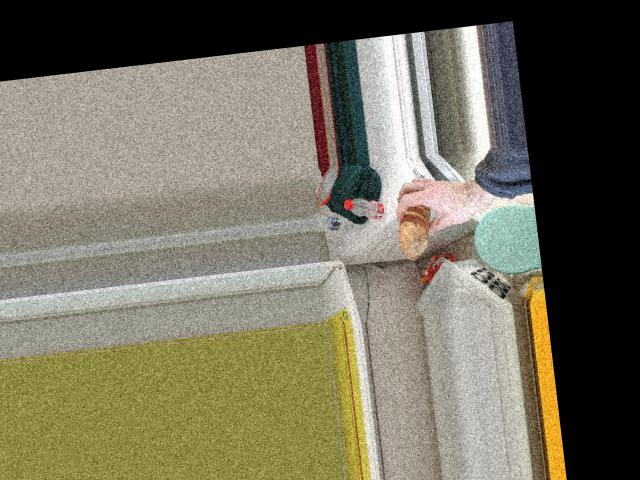sweet_potato: (392, 197, 442, 248)
